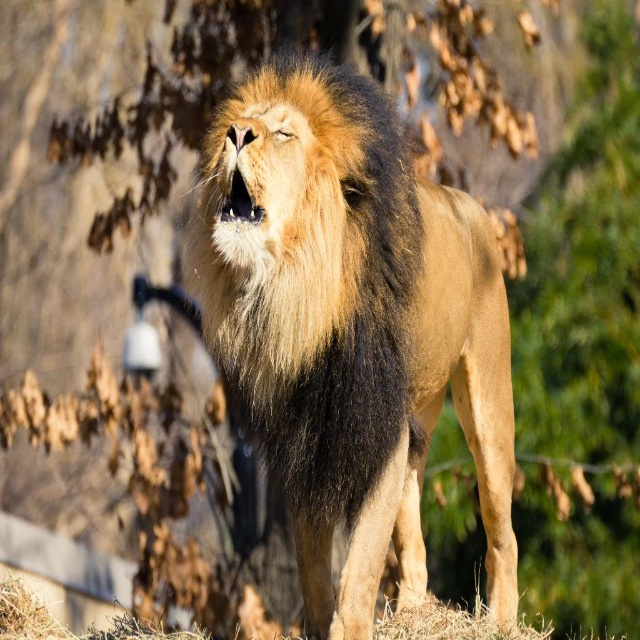Lion: (179, 52, 519, 639)
